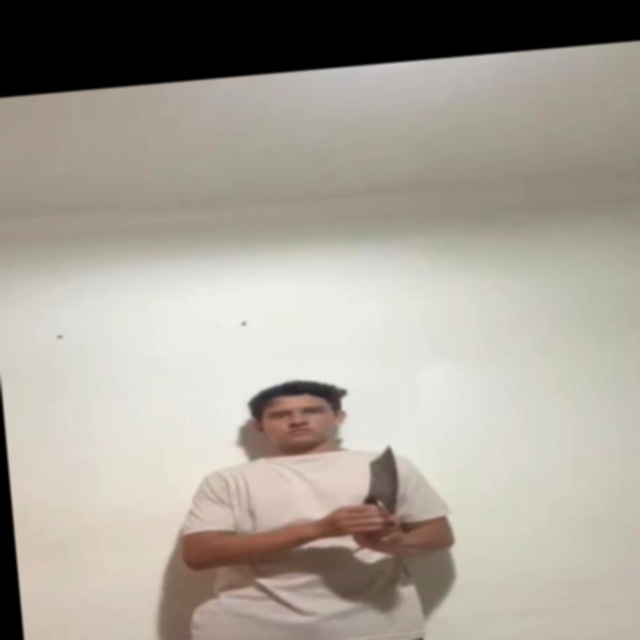Sharp-Object: (366, 444, 402, 511)
